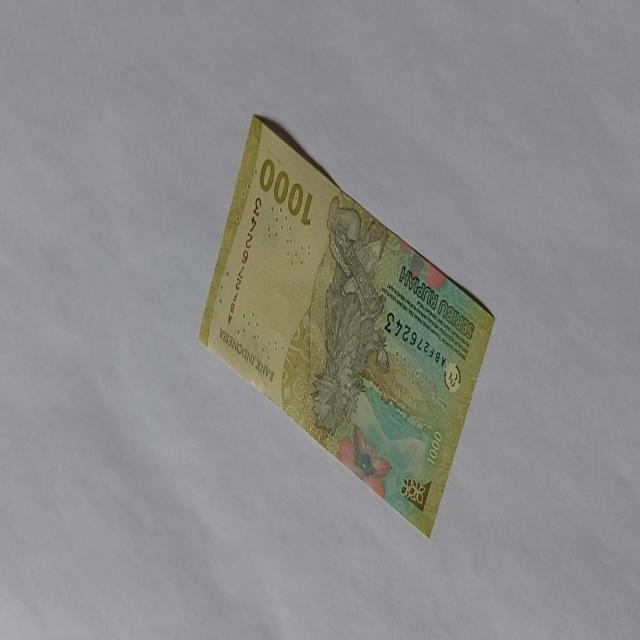seribu rupiah kertas: (198, 113, 496, 539)
